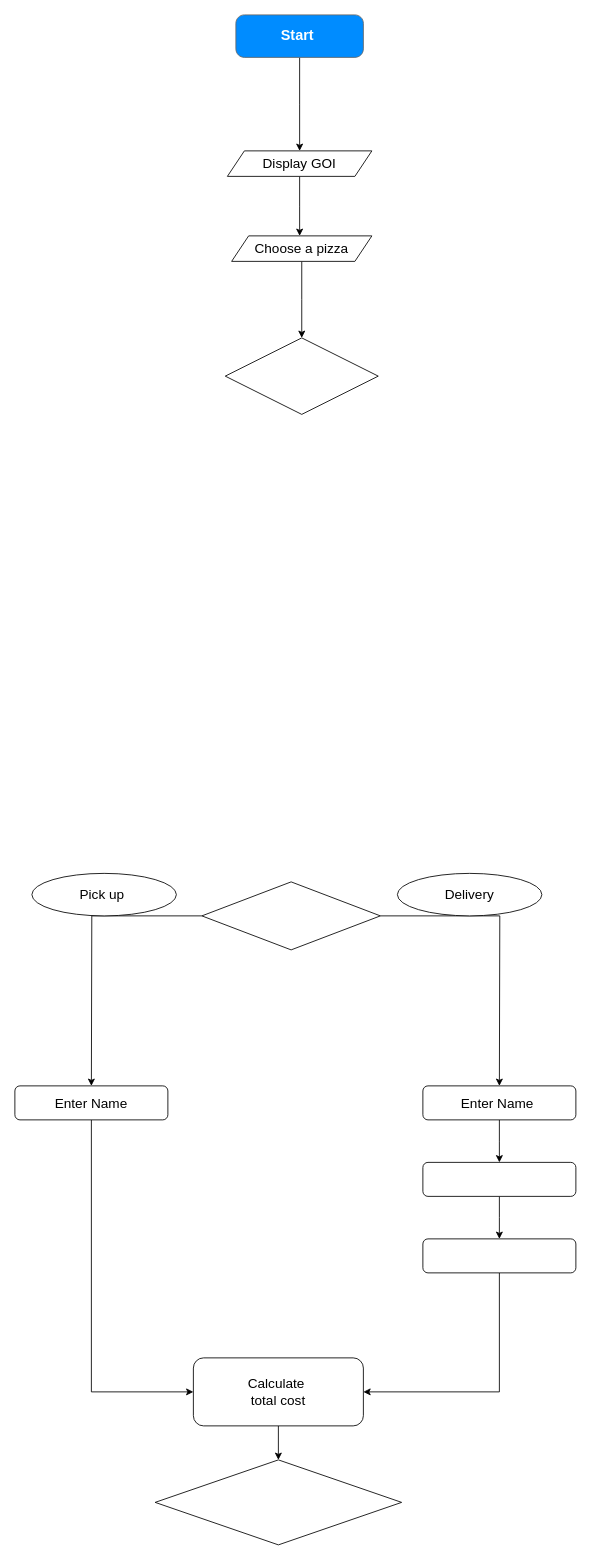
This 591x1560 diagram has some shape labels left out. The shapes that lost their labels are listed below. From the top down, each one's box as (x1, y1, x2, y2) in pixels, then its label:
(201, 881, 380, 950): Delivery or pick up
(422, 1162, 576, 1196): Enter Address
(422, 1238, 576, 1273): Enter Number
(154, 1459, 402, 1545): Order or Quit
